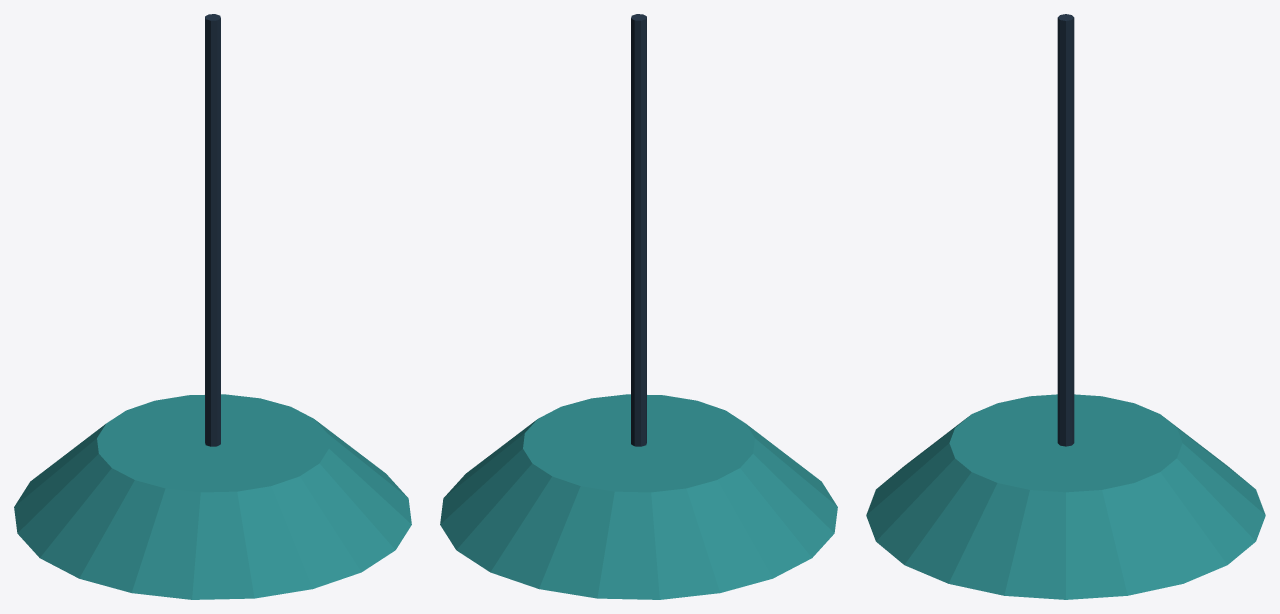
Rendered from SM_Pendant.obj.
3 views of the same model, side by side, from view 1: azimuth 30°, elevation 25°; view 2: azimuth 150°, elevation 25°; view 3: azimuth 270°, elevation 25° (orthographic).
Parts seen in each view (by area): view 1: SM_Pendant; view 2: SM_Pendant; view 3: SM_Pendant.
Part boxes in pixels (x1,y1,x2,y2): SM_Pendant: (14,14,411,599); SM_Pendant: (440,14,837,599); SM_Pendant: (866,14,1265,599).
Size of the model in its own units: 1.2 by 1.65 by 1.2.
